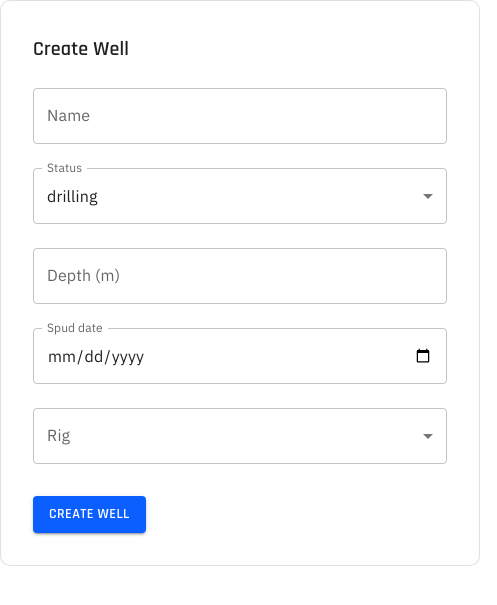
Test: WellForm › shows a validation error when submitted without a name
This screenshot has width=497, height=605.
Click the button "Create Well".
click(89, 514)  # box [33, 496, 146, 532]
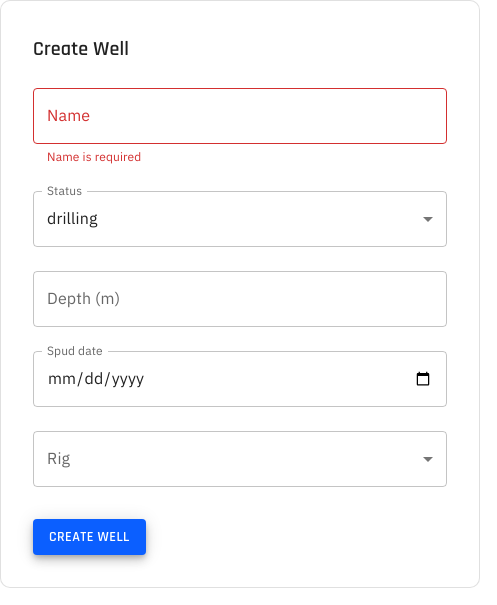
Expected: the text "Name is required" is shown, [47, 149, 142, 164]
